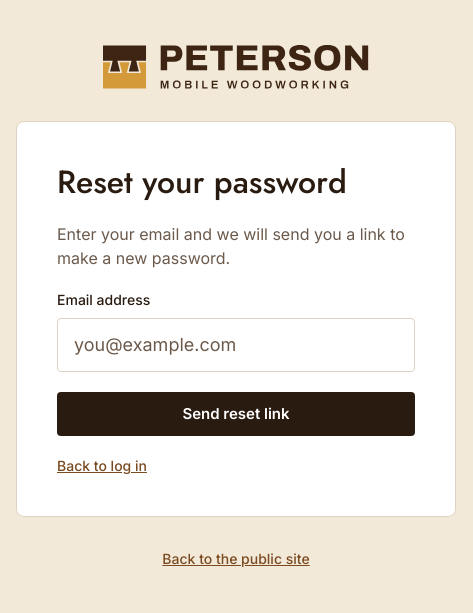
Test: ForgotPasswordPage › shows the rate-limited error and keeps the form
Type "girlie@example.com" into the field labelled "Email address".
click(236, 345); type("girlie@example.com")  # box [57,318,415,372]
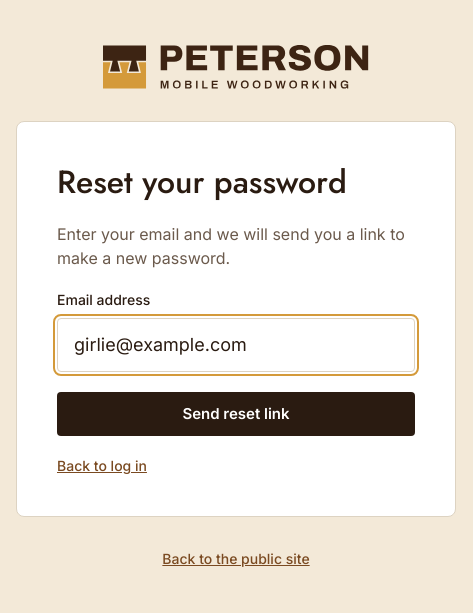
Click the button "Send reset link".
click(236, 414)  # box [57,392,415,436]
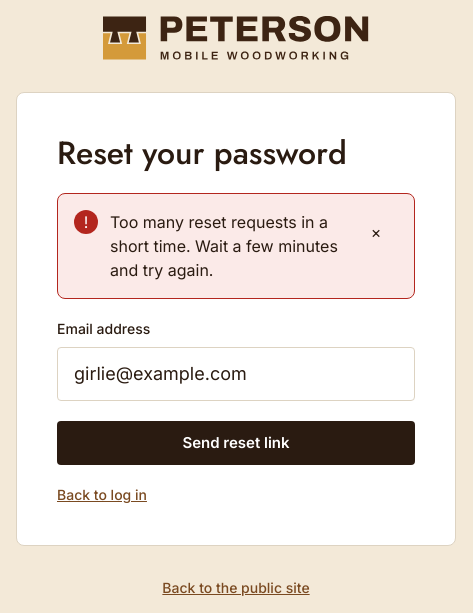
Now the message shows "Too many reset requests in a short time. Wait a few minutes and try again.", box [110,212,338,280]
